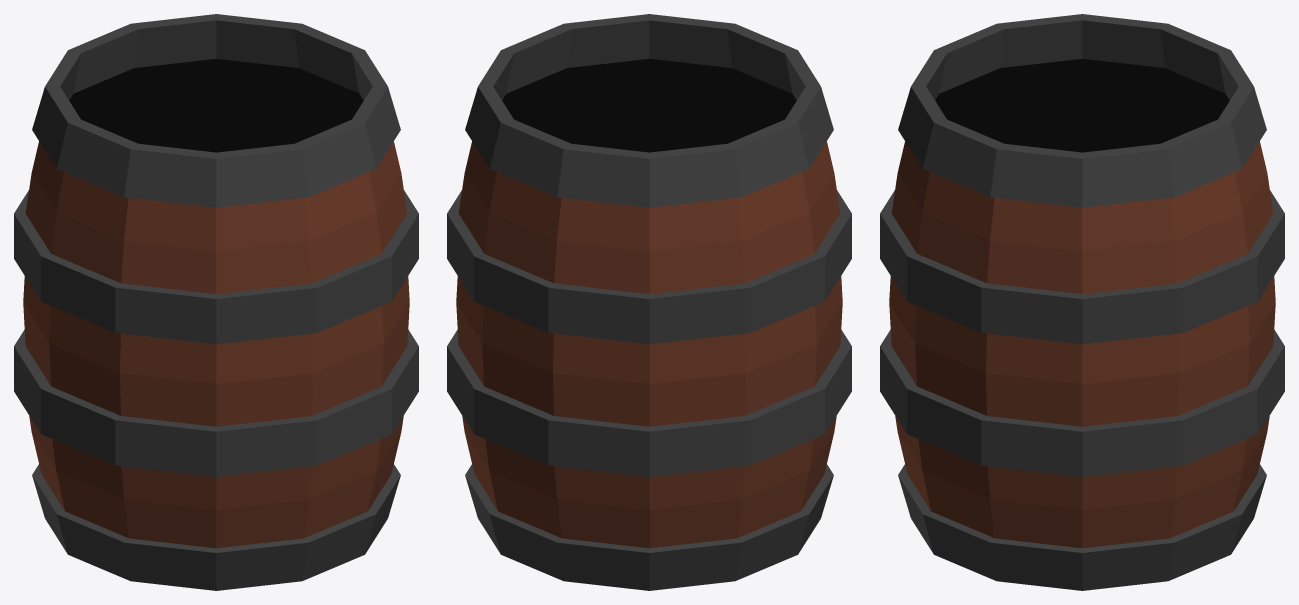
Rendered from LowPolyBarrel.fbx.
The picture shows the model from 3 angles, left to right: view 1: azimuth 30°, elevation 25°; view 2: azimuth 150°, elevation 25°; view 3: azimuth 270°, elevation 25°; orthographic projection.
Visible parts, largest first — view 1: Barrel; view 2: Barrel; view 3: Barrel.
Part boxes in pixels (left/top/right/bottom): Barrel: left=14, top=14, right=418, bottom=590; Barrel: left=447, top=14, right=851, bottom=590; Barrel: left=880, top=14, right=1284, bottom=590.
Size of the model in its own units: 258 by 303 by 258.
